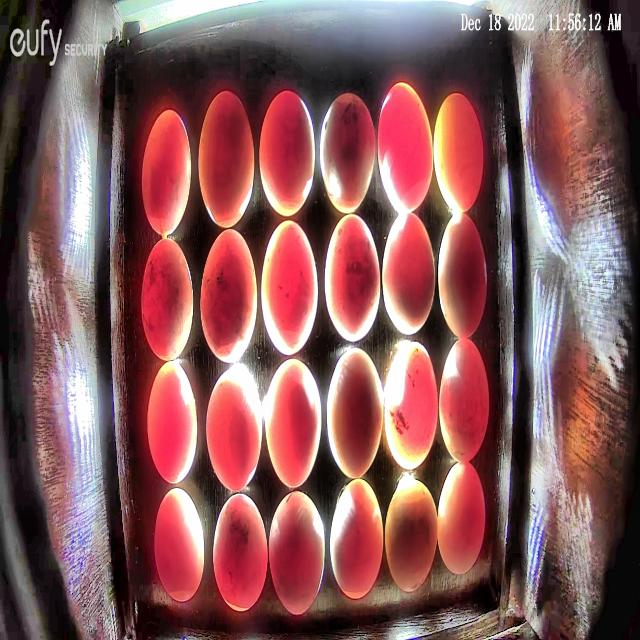FE: (198, 89, 255, 230), (261, 219, 318, 358), (326, 346, 384, 479), (200, 230, 258, 362), (264, 357, 322, 489), (324, 212, 382, 343), (377, 82, 434, 214), (259, 89, 316, 218), (206, 365, 263, 492), (268, 490, 325, 614), (320, 92, 376, 215), (381, 211, 436, 335), (329, 477, 383, 602), (384, 342, 437, 469), (212, 492, 268, 612), (140, 108, 192, 237), (140, 238, 194, 362), (438, 210, 488, 340), (147, 358, 198, 484), (384, 477, 438, 591), (433, 92, 483, 214), (440, 338, 489, 462), (154, 488, 206, 603), (438, 462, 486, 576)
